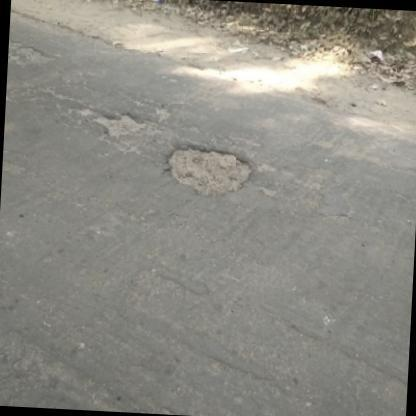pothole: (165, 142, 257, 196), (85, 110, 154, 141), (8, 44, 58, 73)
